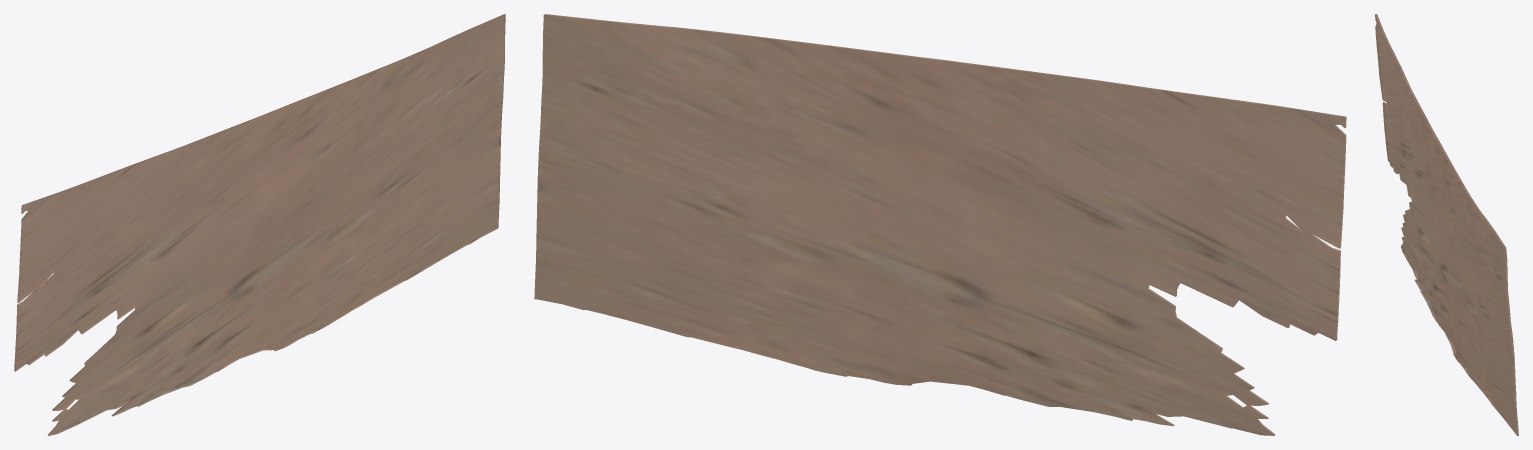
3 renders of one model, left to right at view 1: azimuth 30°, elevation 25°; view 2: azimuth 150°, elevation 25°; view 3: azimuth 270°, elevation 25°, orthographic. The views are drawn at different scales.
Size of the model in its own units: 26.62 by 11.62 by 6.92.
1 material, 1 textured.
